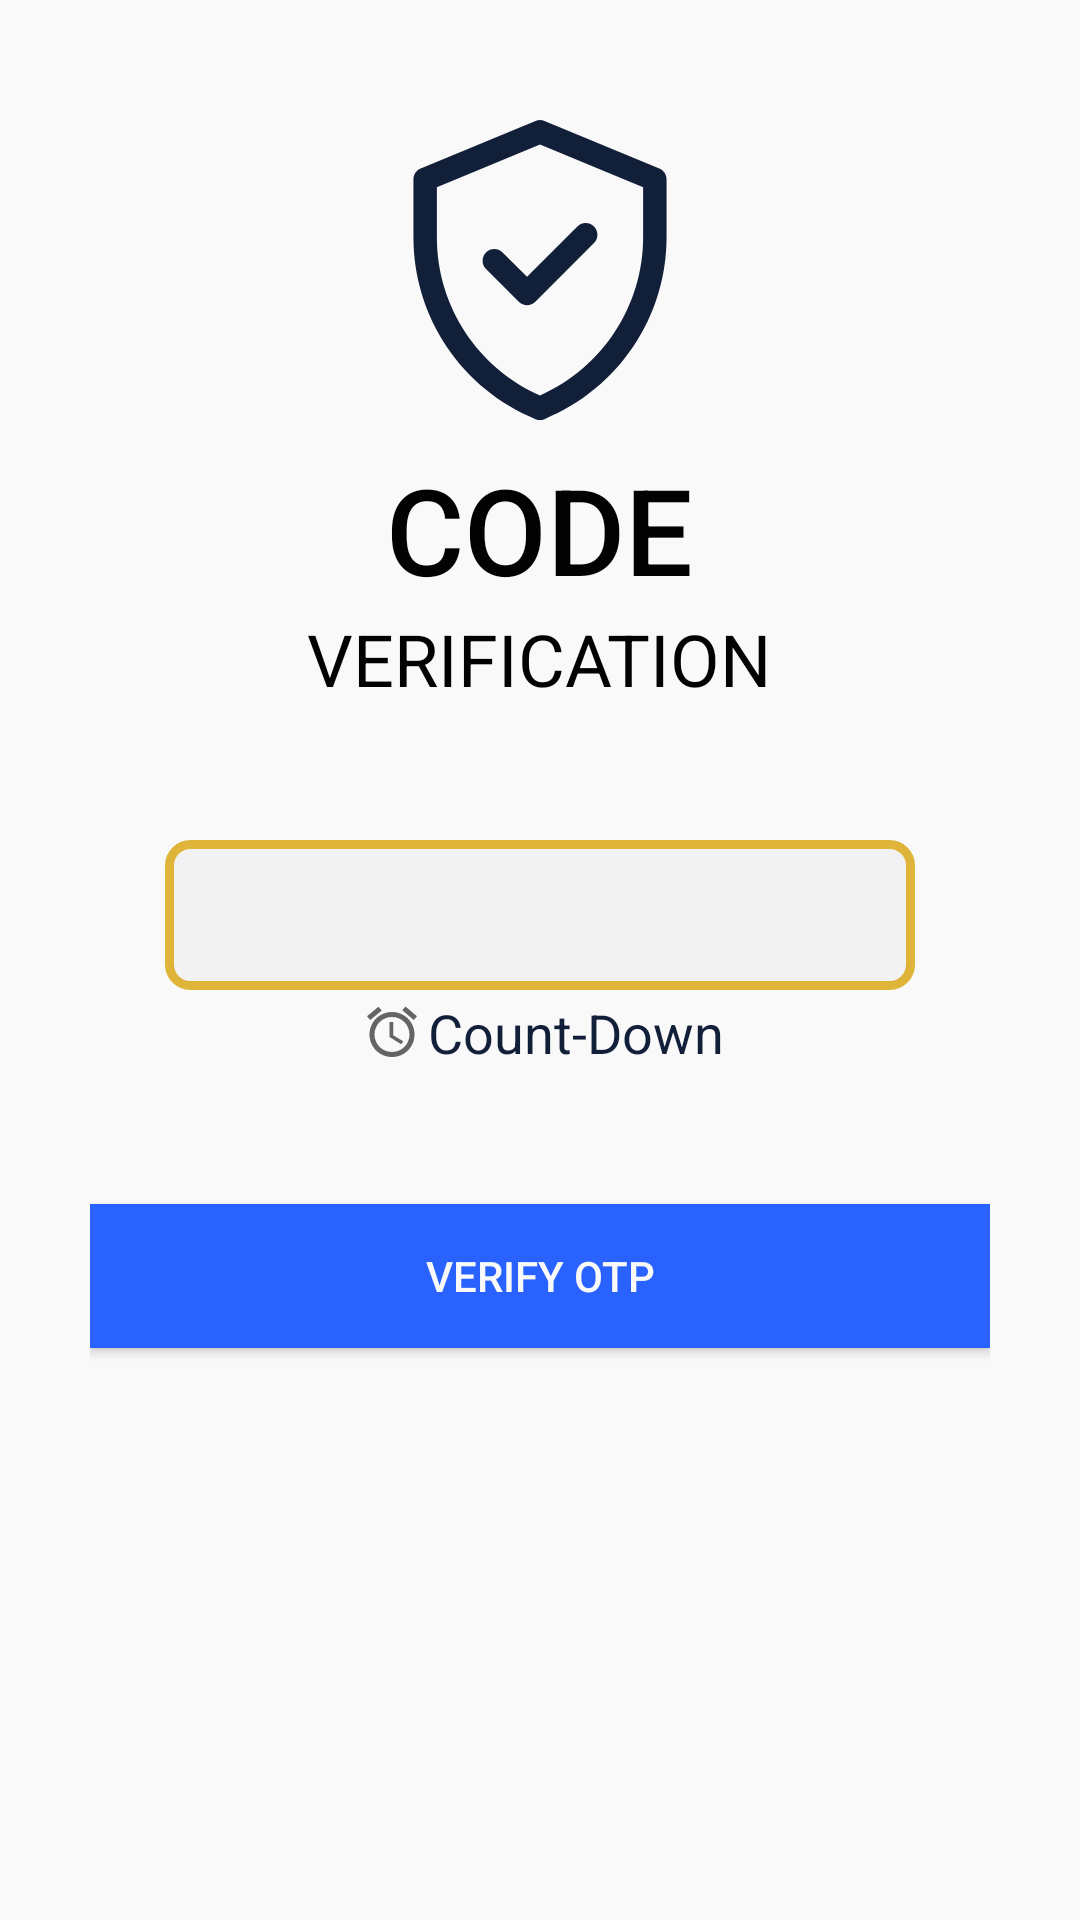

Icon bounding boxes for this 1080x1920 phone screenshot, format (x1, y1, x2, y2):
access alarms: (367, 1006, 417, 1057)
verified: (413, 120, 667, 420)
